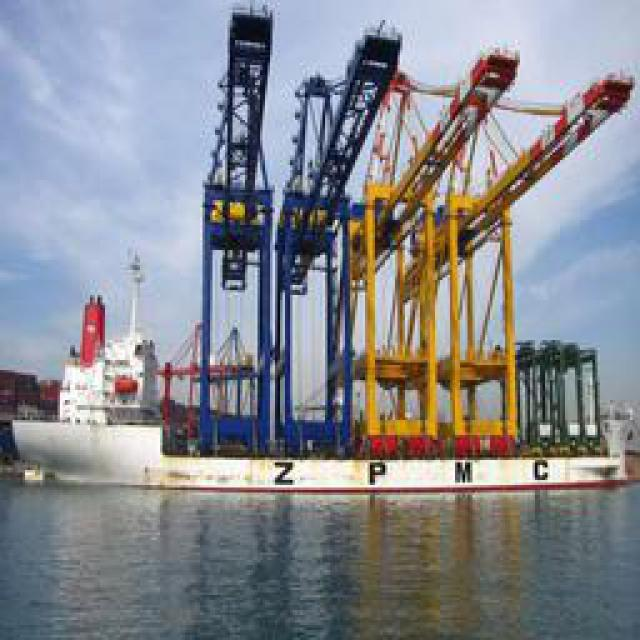Ship: (1, 247, 640, 500)
